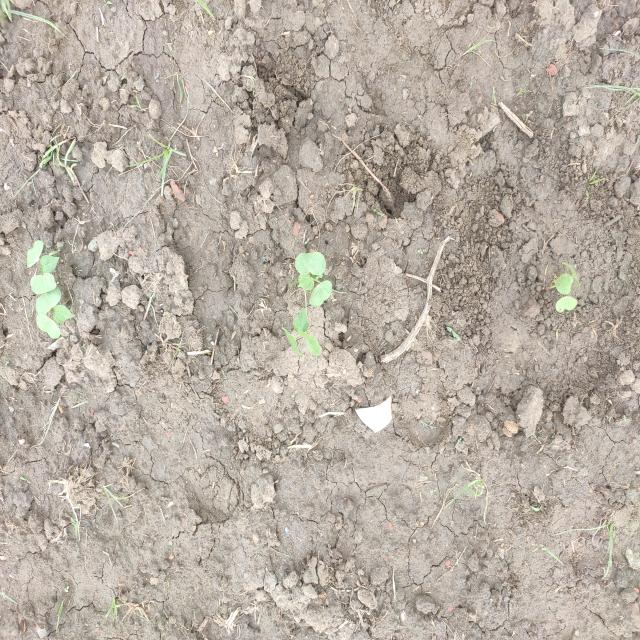seedling: (295, 252, 326, 275), (35, 288, 61, 314), (281, 326, 302, 358), (36, 313, 60, 339), (298, 331, 322, 356), (309, 280, 332, 306), (31, 273, 56, 295), (562, 262, 580, 289), (27, 240, 44, 267), (553, 274, 573, 295), (53, 305, 76, 323), (293, 307, 309, 332), (556, 296, 578, 313), (40, 255, 60, 273), (297, 273, 314, 290)
